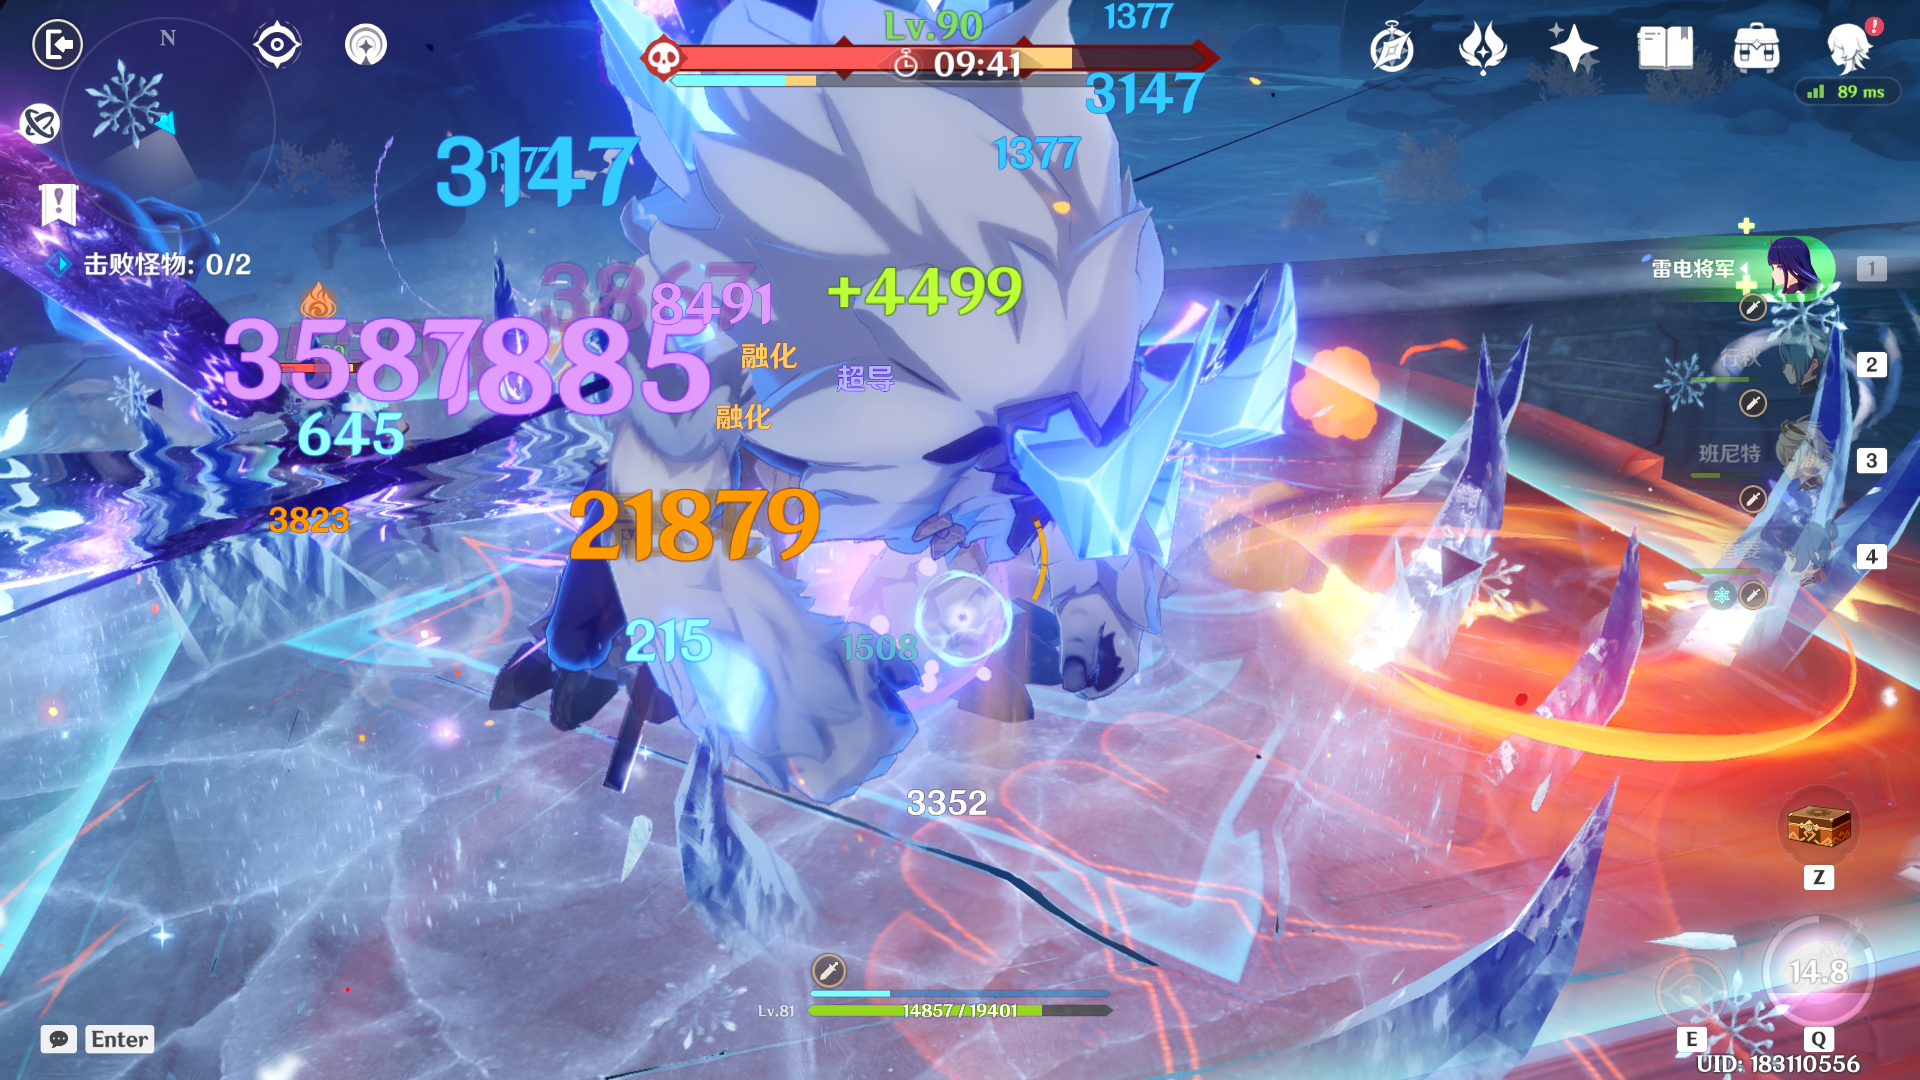bosshili: (363, 1, 1307, 916)
